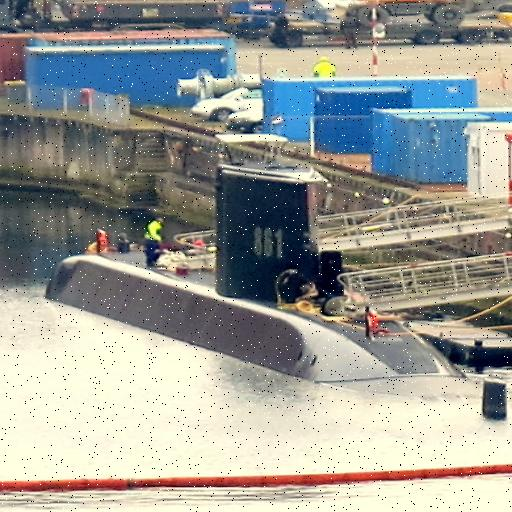submarine: (46, 165, 512, 419)
